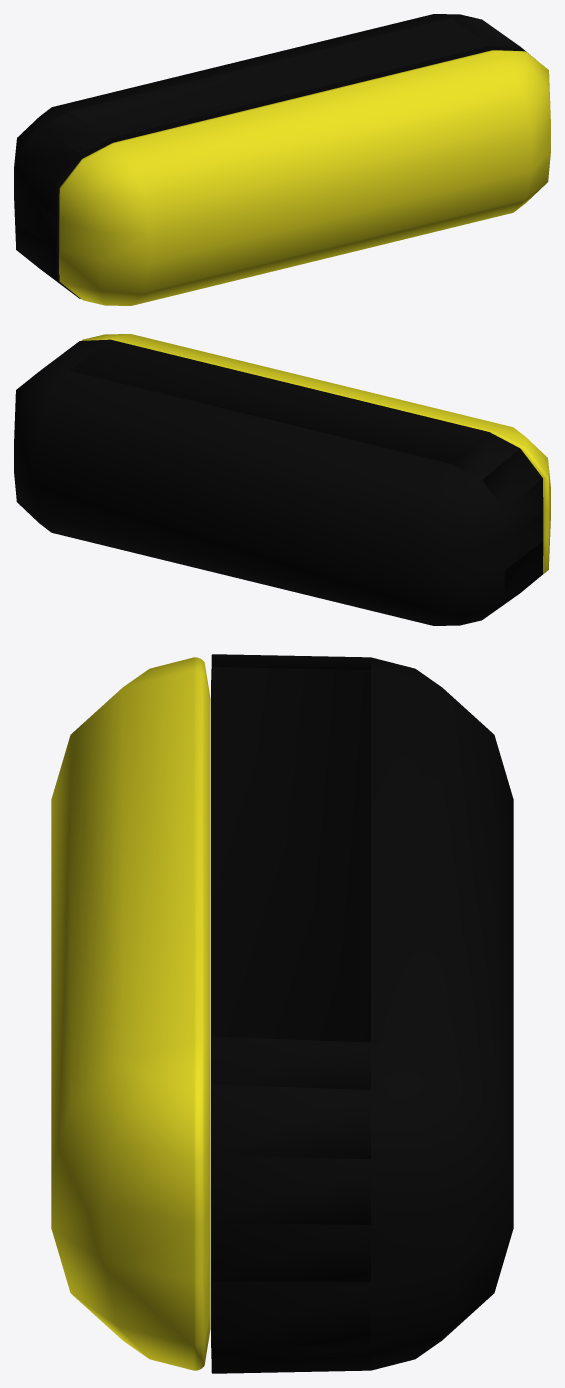
Rendered from lights_V2.FBX.
3 renders of one model, top to bottom at view 1: azimuth 30°, elevation 25°; view 2: azimuth 150°, elevation 25°; view 3: azimuth 270°, elevation 25°, orthographic. The views are drawn at different scales.
Visible parts, largest first — view 1: ChamferBox001, Lights; view 2: Lights, ChamferBox001; view 3: Lights, ChamferBox001.
Part boxes in pixels (x1,y1,x2,y2): ChamferBox001: [59, 50, 550, 305]; Lights: [14, 14, 535, 298]; Lights: [14, 339, 543, 625]; ChamferBox001: [81, 334, 550, 574]; Lights: [211, 654, 513, 1373]; ChamferBox001: [51, 657, 210, 1370].
Bounding box in the file's own units: 84.72 × 26.8 × 34.59.
